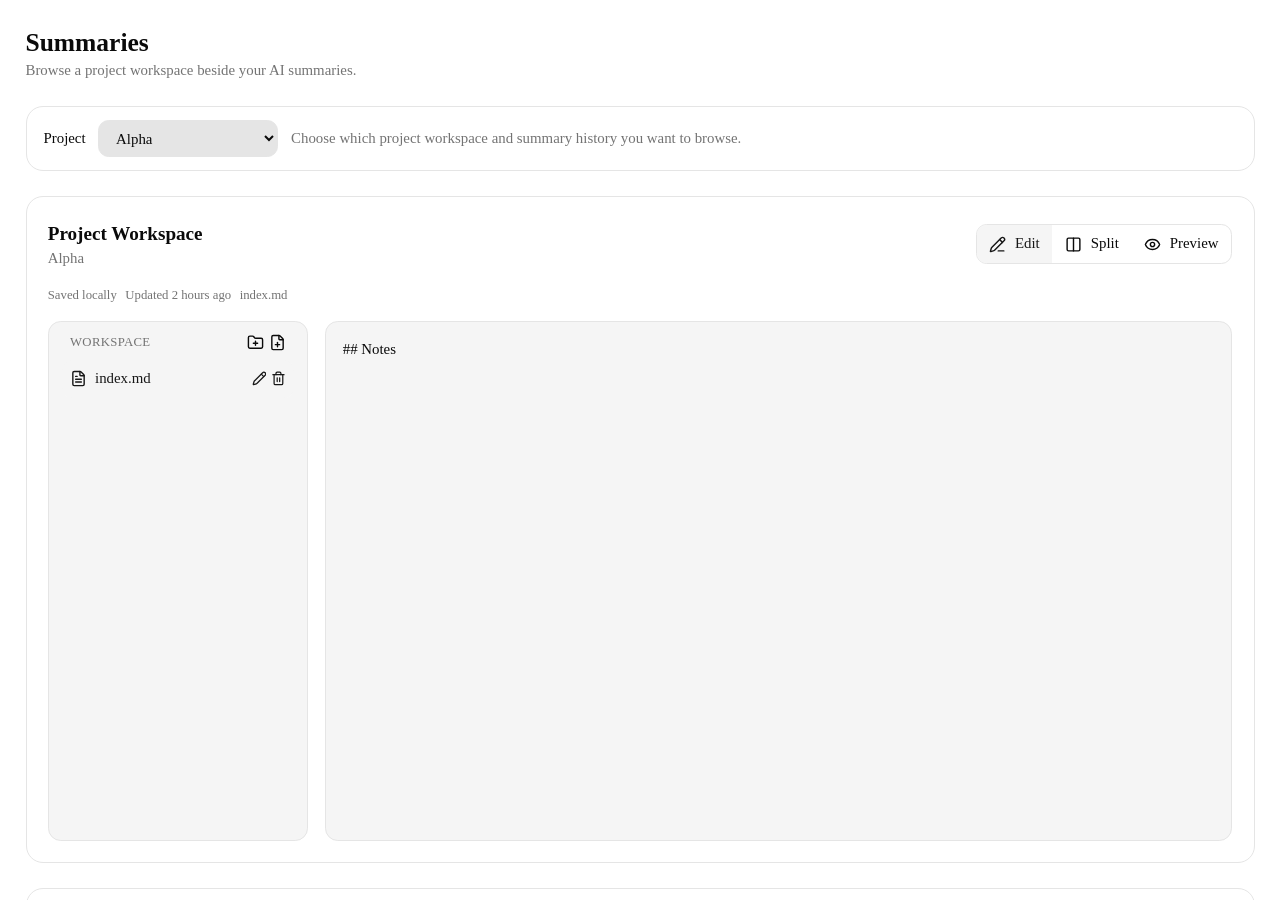
Test: SummaryPanel › shows the app-styled confirmation before deleting a workspace note
This screenshot has width=1280, height=900.
Click the button titled "Delete note": {"x": 278, "y": 379} x1=271 y1=371 x2=286 y2=386
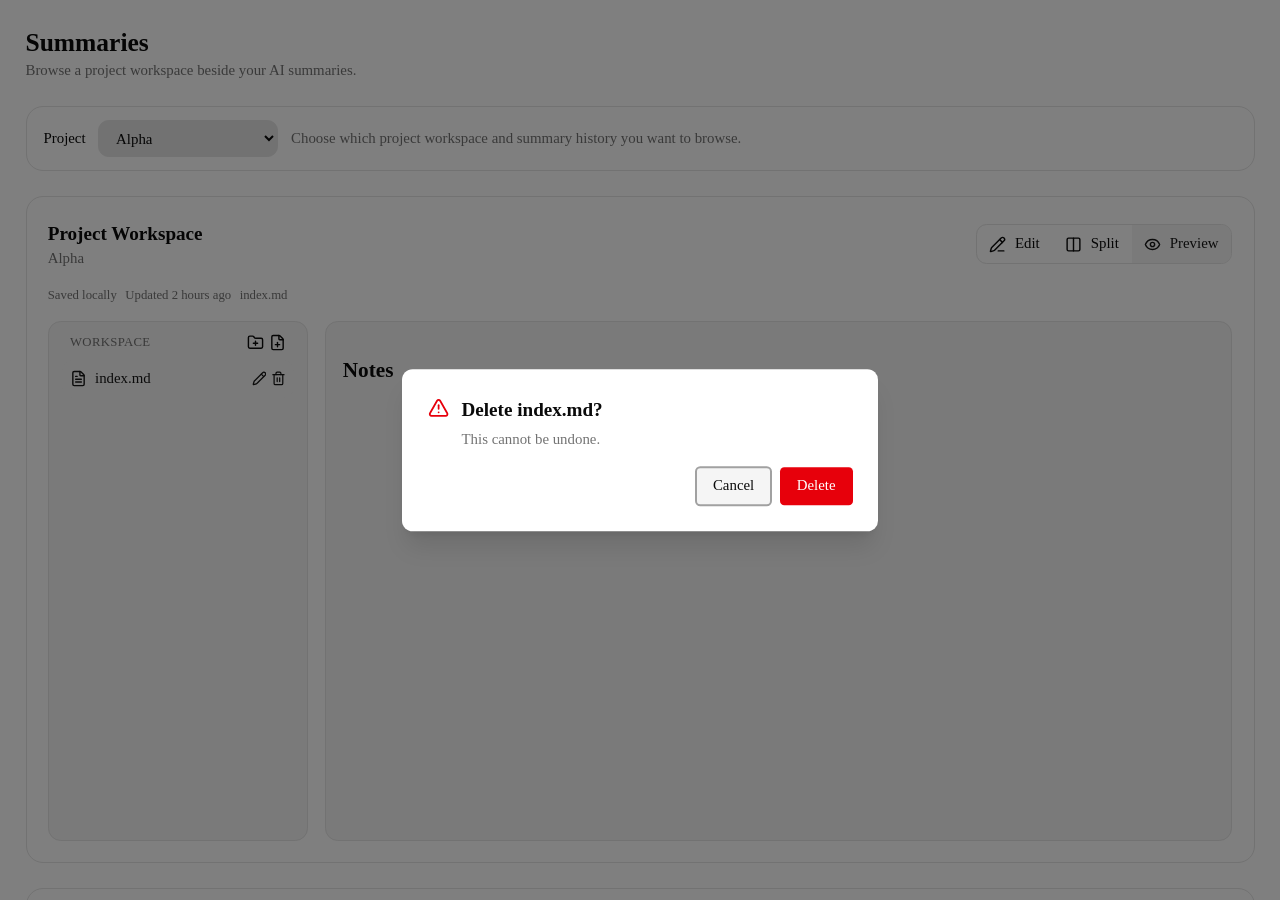
Check: the heading "Delete index.md?" is shown, box x1=462 y1=399 x2=603 y2=420
Check: the text "This cannot be undone." is shown, box x1=462 y1=431 x2=600 y2=447
